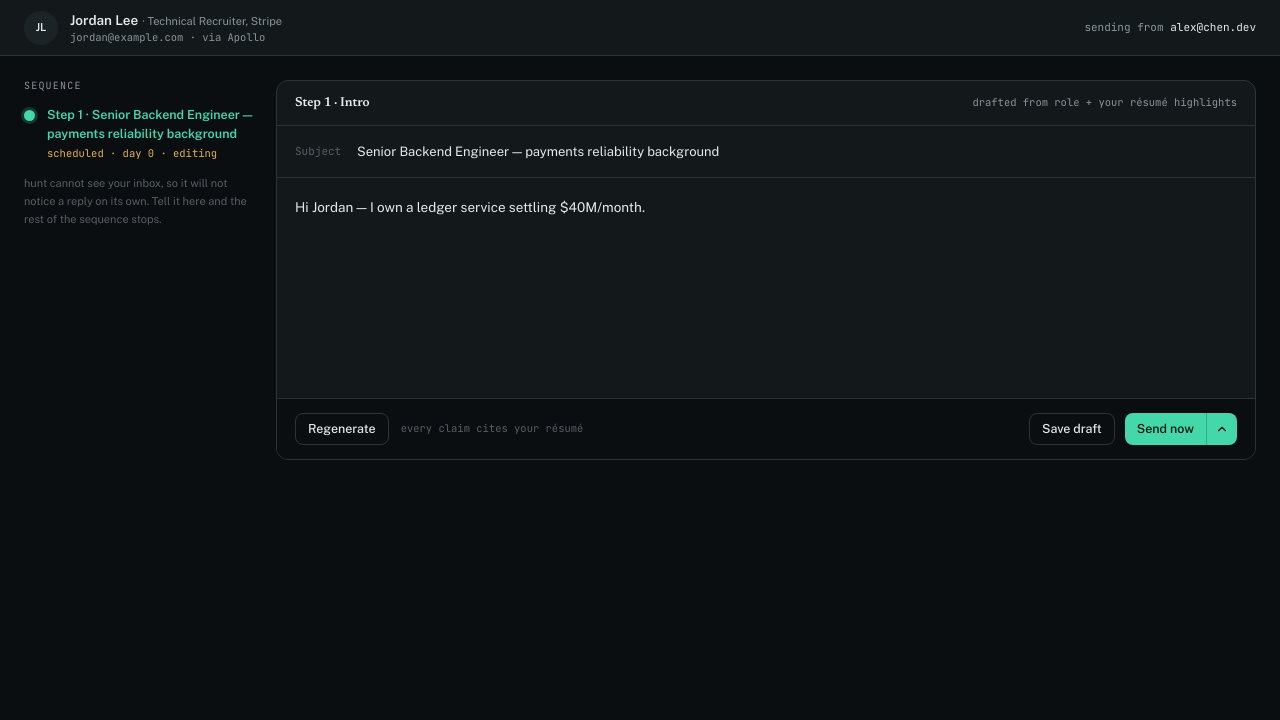
Scenario: composer › hands Send back in the same commit that paints the regenerated draft
Step 1. Click the button with test id "regenerate" → click(342, 429), box [295,413,389,445]
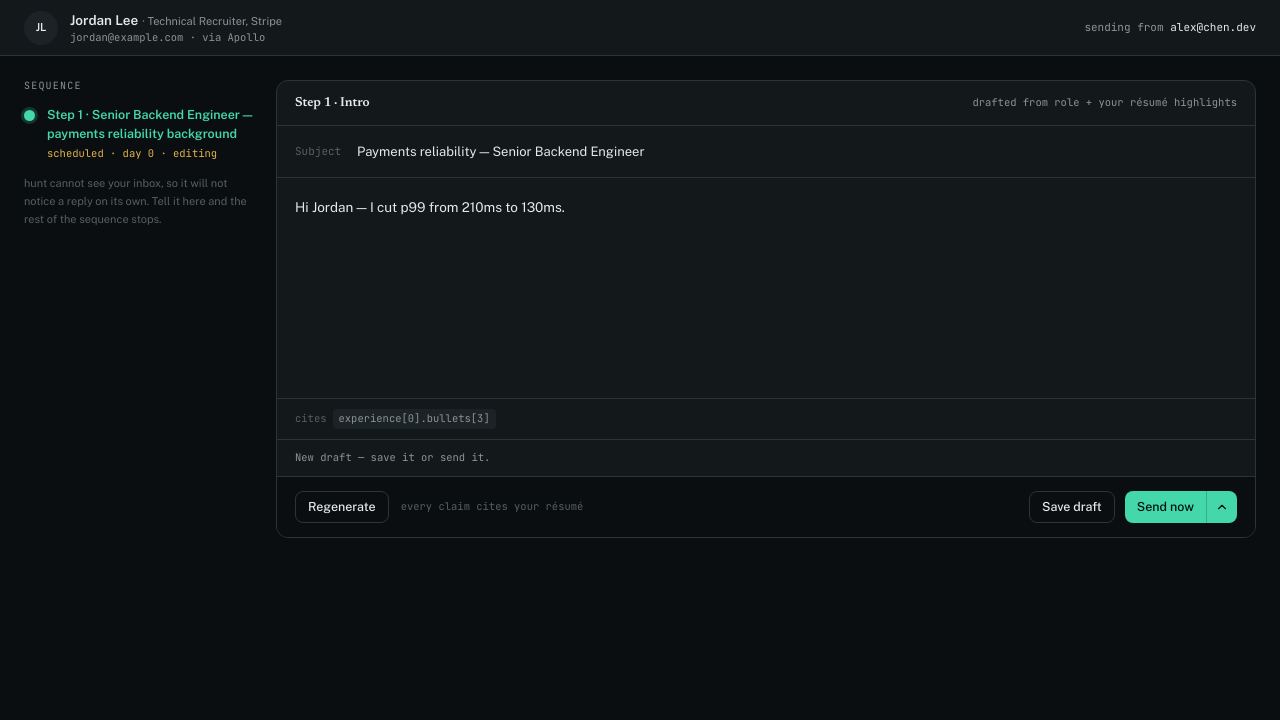
Expected: the text "experience[0].bullets[3]" is shown, [332,409,496,429]
